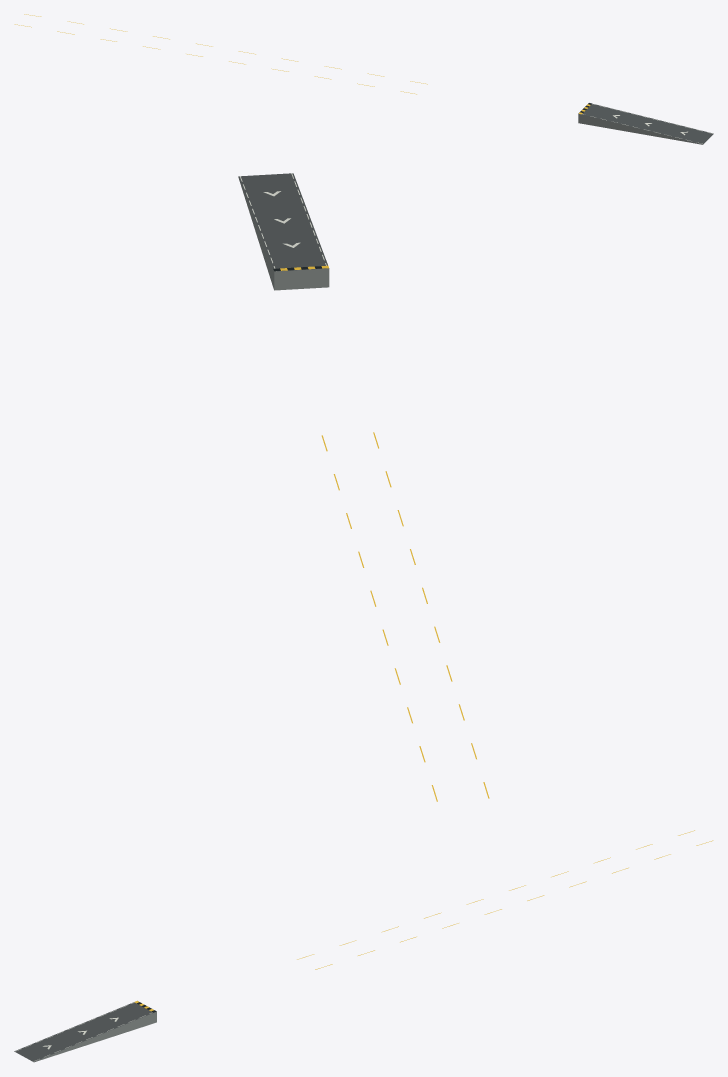
The model's file is Coast_AirtimeRamp.glb.
3 renders of one model, top to bottom at view 1: azimuth 30°, elevation 25°; view 2: azimuth 150°, elevation 25°; view 3: azimuth 270°, elevation 25°, orthographic. The views are drawn at different scales.
Visible parts, largest first — view 1: Coast_AirtimeRamp_Ramp_asphalt_aggregate, Coast_AirtimeRamp_Ramp_precast_side_concrete, Coast_AirtimeRamp_Ramp_hazard_warm_yellow; view 2: Coast_AirtimeRamp_Ramp_asphalt_aggregate, Coast_AirtimeRamp_Ramp_precast_side_concrete; view 3: Coast_AirtimeRamp_Ramp_asphalt_aggregate, Coast_AirtimeRamp_Ramp_precast_side_concrete, Coast_AirtimeRamp_Ramp_hazard_warm_yellow.
Part boxes in pixels (x1,y1,x2,y2): Coast_AirtimeRamp_Ramp_asphalt_aggregate: (578, 103, 713, 144); Coast_AirtimeRamp_Ramp_precast_side_concrete: (578, 113, 703, 144); Coast_AirtimeRamp_Ramp_hazard_warm_yellow: (14, 14, 590, 114); Coast_AirtimeRamp_Ramp_asphalt_aggregate: (238, 173, 327, 271); Coast_AirtimeRamp_Ramp_precast_side_concrete: (238, 177, 329, 290); Coast_AirtimeRamp_Ramp_asphalt_aggregate: (14, 1002, 155, 1061); Coast_AirtimeRamp_Ramp_precast_side_concrete: (33, 1011, 156, 1062); Coast_AirtimeRamp_Ramp_hazard_warm_yellow: (134, 830, 713, 1011).
Bounding box in the file's own units: 123 × 2.73 × 157.
